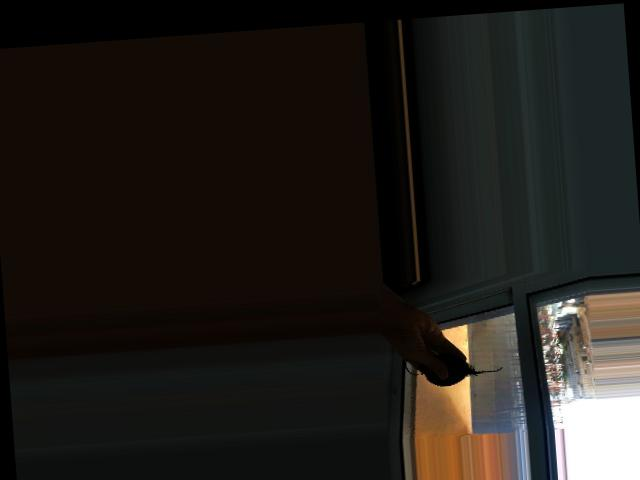beet: (404, 339, 504, 388)
